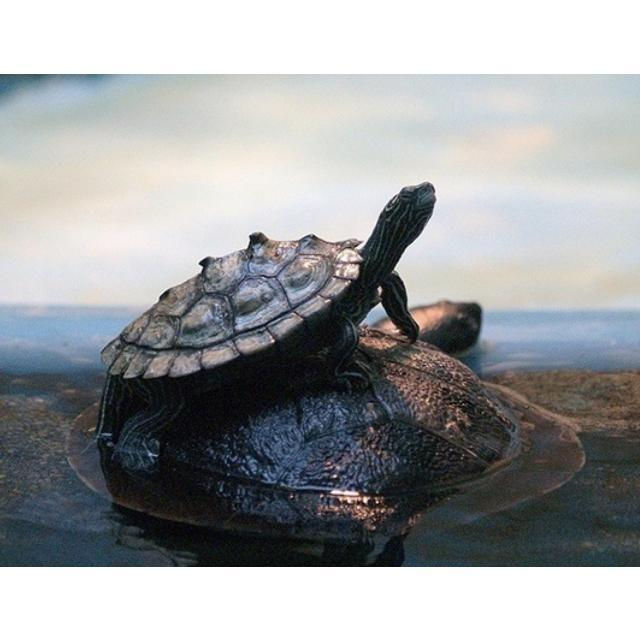turtle: (96, 180, 520, 543)
